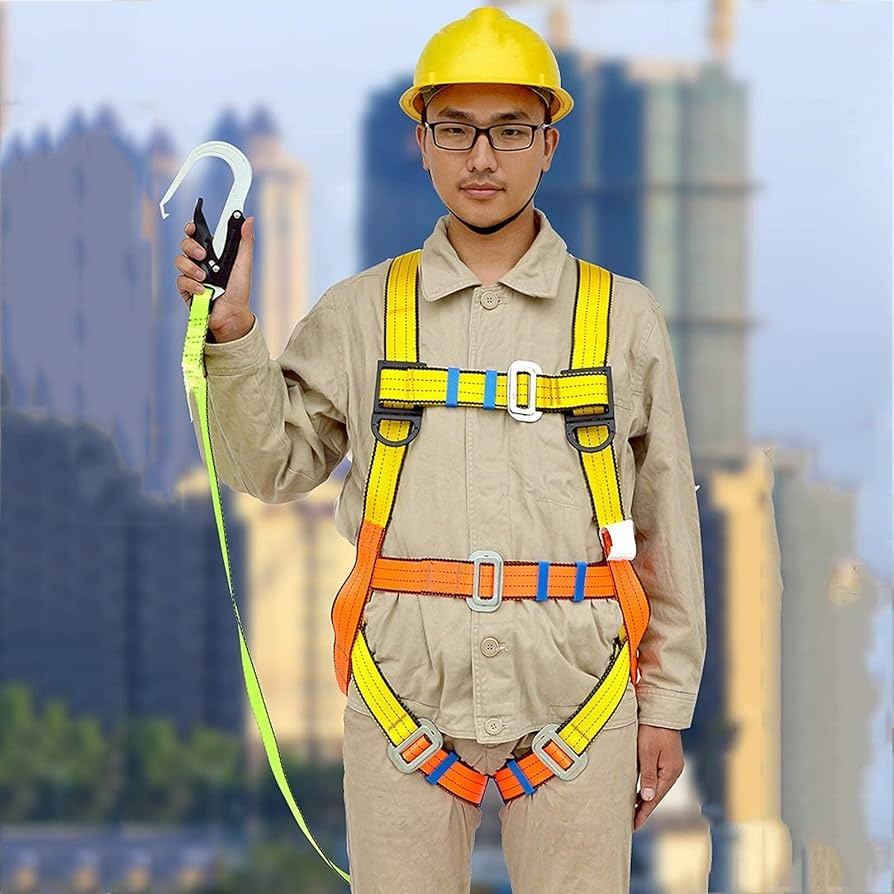Helmet: (396, 9, 571, 120)
No_goggles: (425, 112, 543, 159)
Person: (272, 0, 660, 894)
Safety_Harness: (182, 206, 647, 885)
